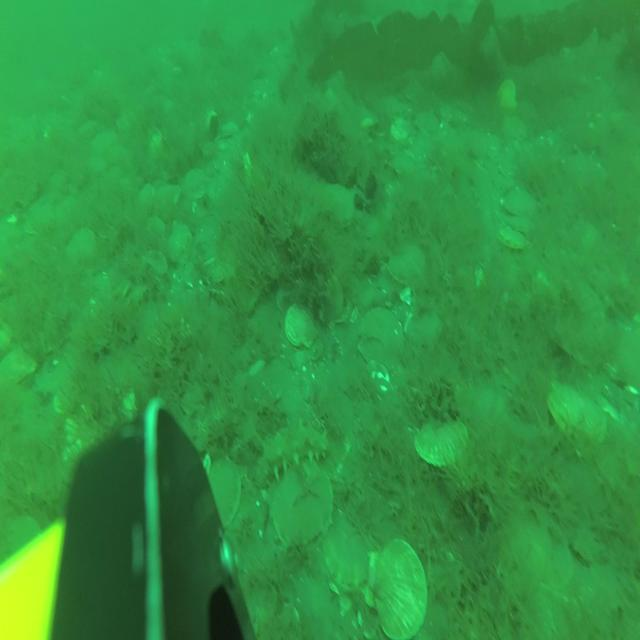holothurian: (249, 422, 327, 489)
scallop: (500, 500, 572, 604), (366, 536, 427, 639), (548, 274, 604, 356), (272, 470, 332, 546), (545, 378, 605, 447), (323, 511, 370, 591), (414, 412, 466, 468), (206, 460, 243, 537), (360, 306, 403, 372), (387, 240, 425, 287), (313, 266, 344, 322), (1, 349, 39, 391), (323, 180, 354, 230), (286, 301, 314, 350), (66, 232, 96, 268), (165, 223, 190, 260), (501, 224, 529, 252), (503, 189, 532, 216), (145, 251, 166, 287), (499, 117, 528, 143), (496, 77, 518, 111), (510, 208, 536, 235)
